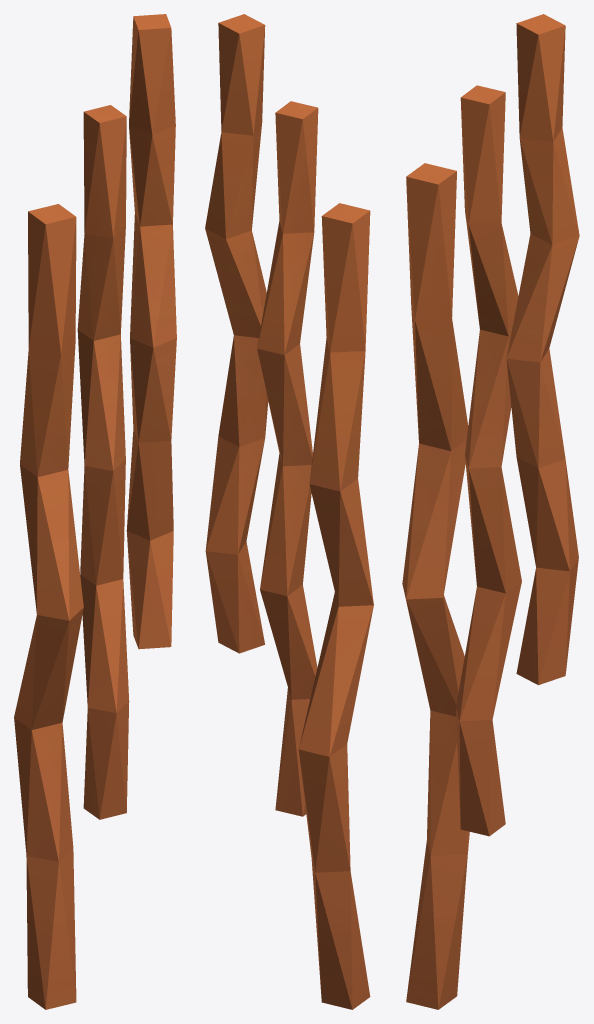
The model's file is vine_strands.glb.
The picture shows the model from 3 angles, left to right: view 1: azimuth 30°, elevation 25°; view 2: azimuth 150°, elevation 25°; view 3: azimuth 330°, elevation 25°; orthographic projection. The views are drawn at different scales.
Visible parts, largest first — view 1: Vine_A_1; view 2: Vine_A_1; view 3: Vine_A_1.
Part boxes in pixels (<box>): Vine_A_1: <box>14,14,176,1009</box>; Vine_A_1: <box>205,14,373,1009</box>; Vine_A_1: <box>402,14,579,1009</box>.
Bounding box in the file's own units: 0.2636 × 1.6 × 0.1464.
1 material, 1 textured.
